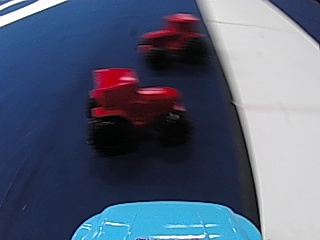tractor: (85, 64, 185, 155), (140, 12, 204, 68)
